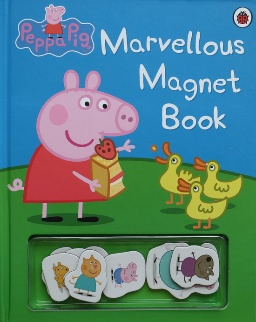Peppa: (6, 67, 142, 225)
